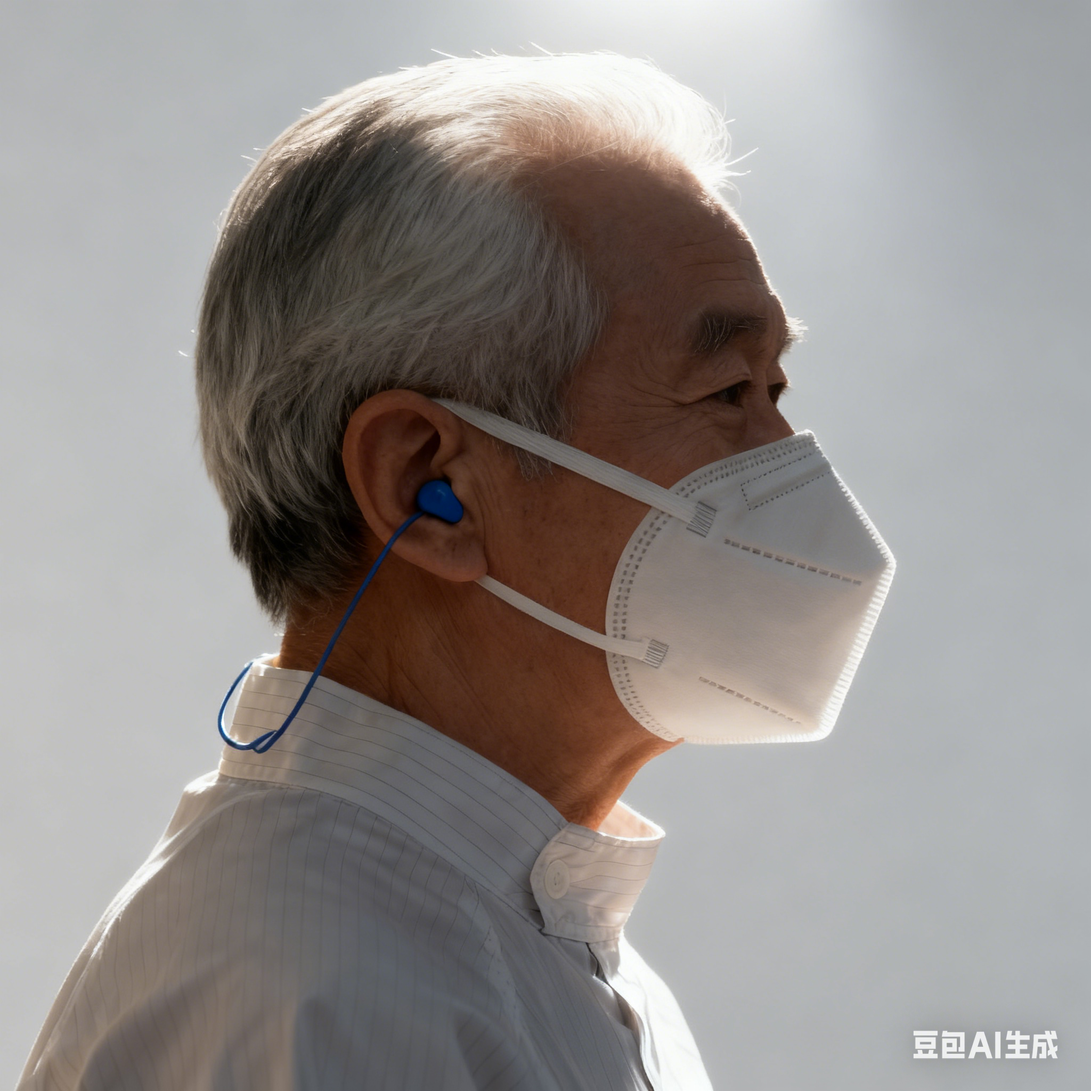MASK: (616, 428, 893, 742)
